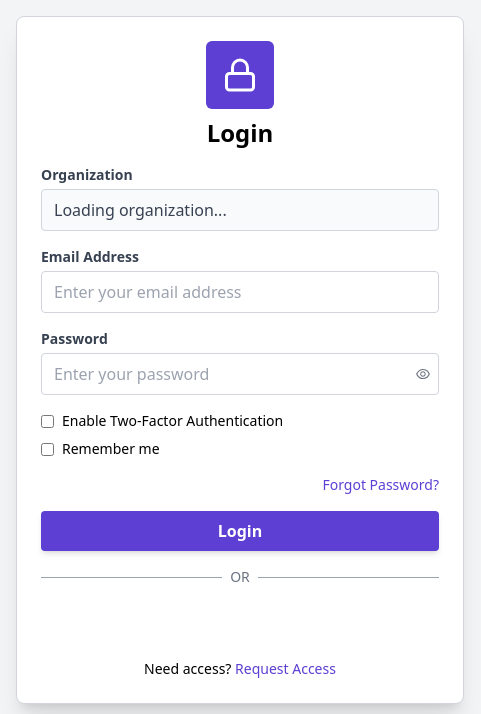
Test: Login component › shows error on login failure
Type "test@test.com" into the field with placeholder "Enter your email address" at (240, 292), box [41,271,439,313]
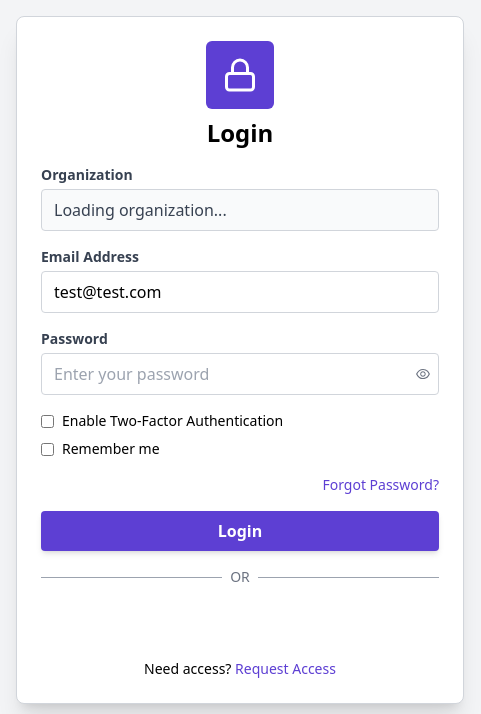
Type "wrongpass" into the password field with placeholder "Enter your password" at (240, 374), box [41,353,439,395]
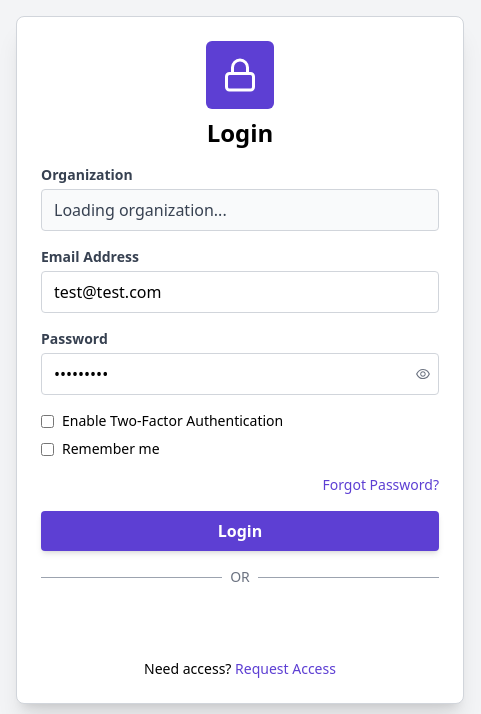
Click the button "Login" at (240, 531), box [41,511,439,551]
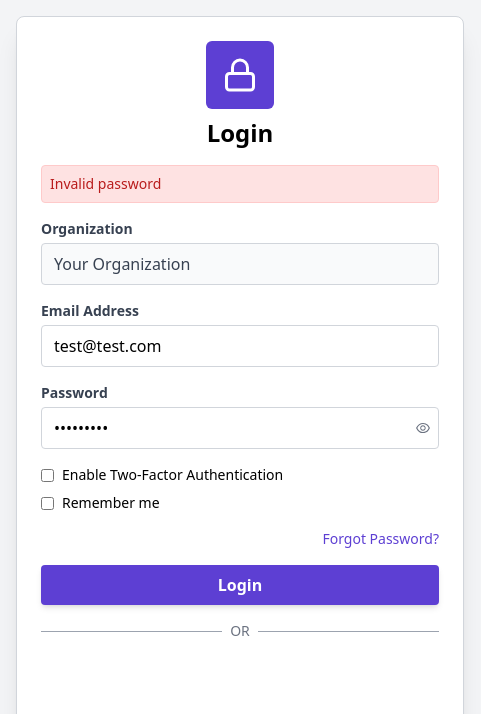
Result: the text "Invalid password" is shown at [41,165,439,203]
